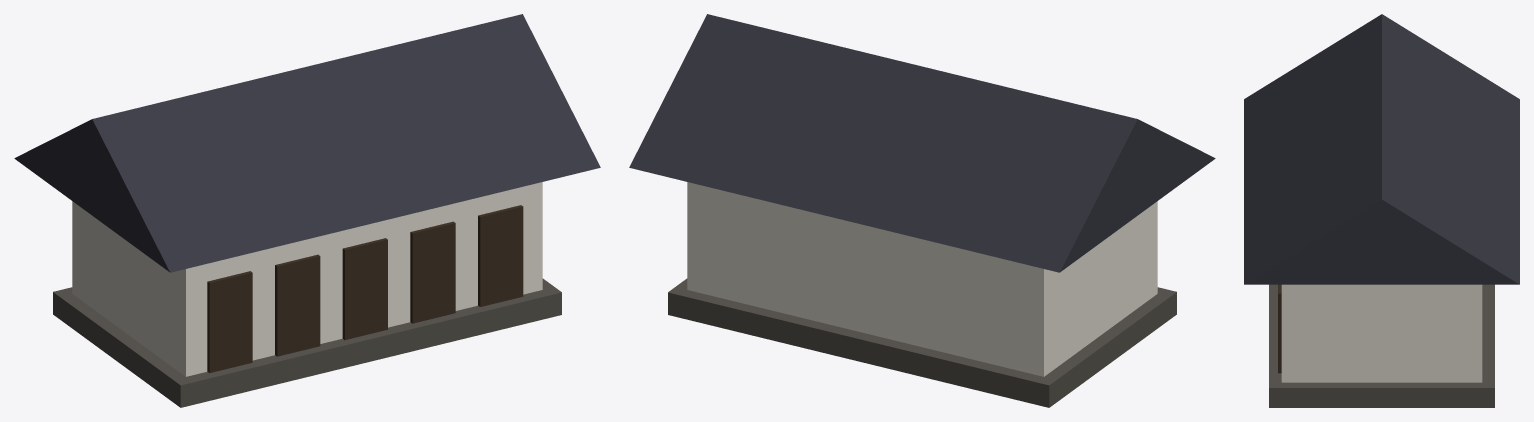
File: s2_clerk_barrack.glb
3 views of the same model, side by side, from view 1: azimuth 30°, elevation 25°; view 2: azimuth 150°, elevation 25°; view 3: azimuth 270°, elevation 25° (orthographic). The views are drawn at different scales.
Parts seen in each view (by area): view 1: s2_clerk_barrack; view 2: s2_clerk_barrack; view 3: s2_clerk_barrack.
Part boxes in pixels (x1=…): s2_clerk_barrack: x1=14, y1=14, x2=600, y2=407; s2_clerk_barrack: x1=629, y1=14, x2=1215, y2=407; s2_clerk_barrack: x1=1244, y1=14, x2=1519, y2=407.
Bounding box in the file's own units: 7 × 3.85 × 4.4.
